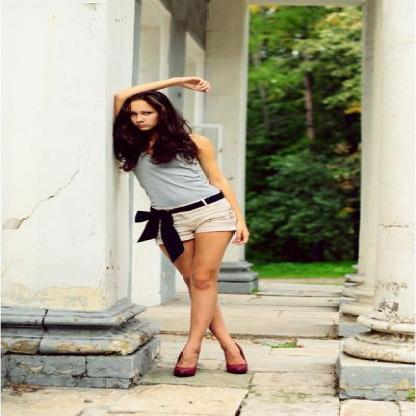shirt: (114, 149, 220, 210)
shoe: (172, 341, 247, 377)
shorts: (173, 199, 234, 240)
